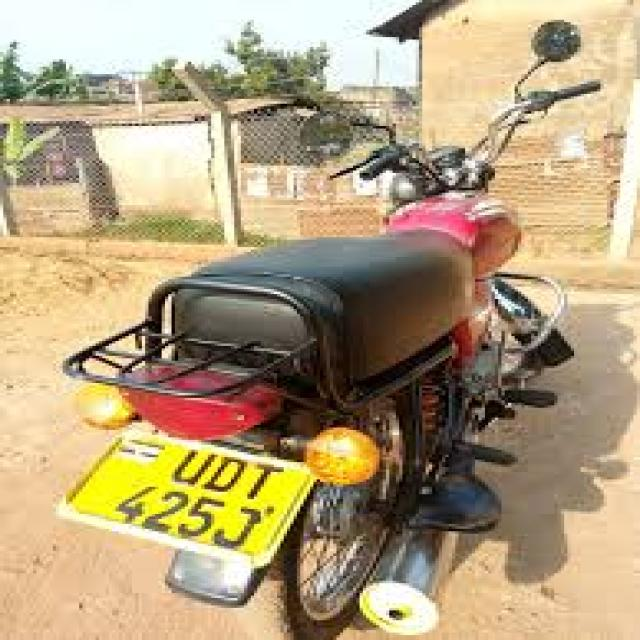bodaboda: (4, 10, 618, 640)
